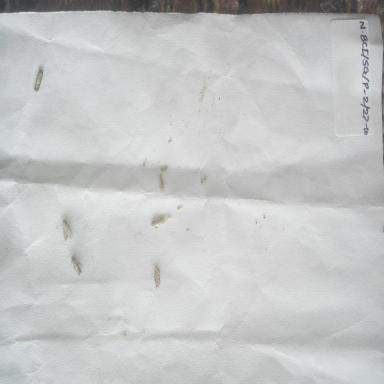pbw: (63, 250, 93, 282), (29, 60, 49, 96), (153, 170, 171, 198), (152, 260, 164, 293), (61, 218, 75, 244), (149, 213, 169, 230)
